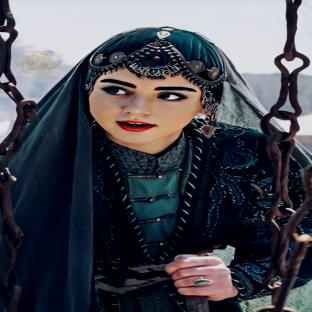Human: (11, 26, 277, 312)
